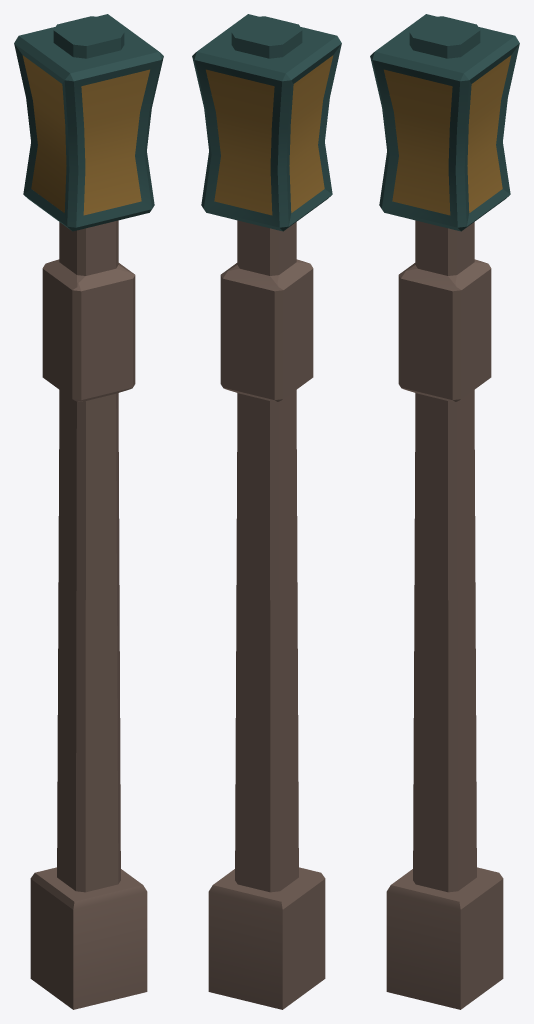
File: streetlight_a004.glb
3 renders of one model, left to right at view 1: azimuth 30°, elevation 25°; view 2: azimuth 150°, elevation 25°; view 3: azimuth 330°, elevation 25°, orthographic.
Visible parts, largest first — view 1: streetlight_a004; view 2: streetlight_a004; view 3: streetlight_a004.
Part boxes in pixels (x1=…): streetlight_a004: x1=14, y1=14, x2=163, y2=1009; streetlight_a004: x1=192, y1=14, x2=341, y2=1009; streetlight_a004: x1=370, y1=14, x2=519, y2=1009.
Bounding box in the file's own units: 0.1408 × 1.29 × 0.1408.
1 material, 1 textured.
